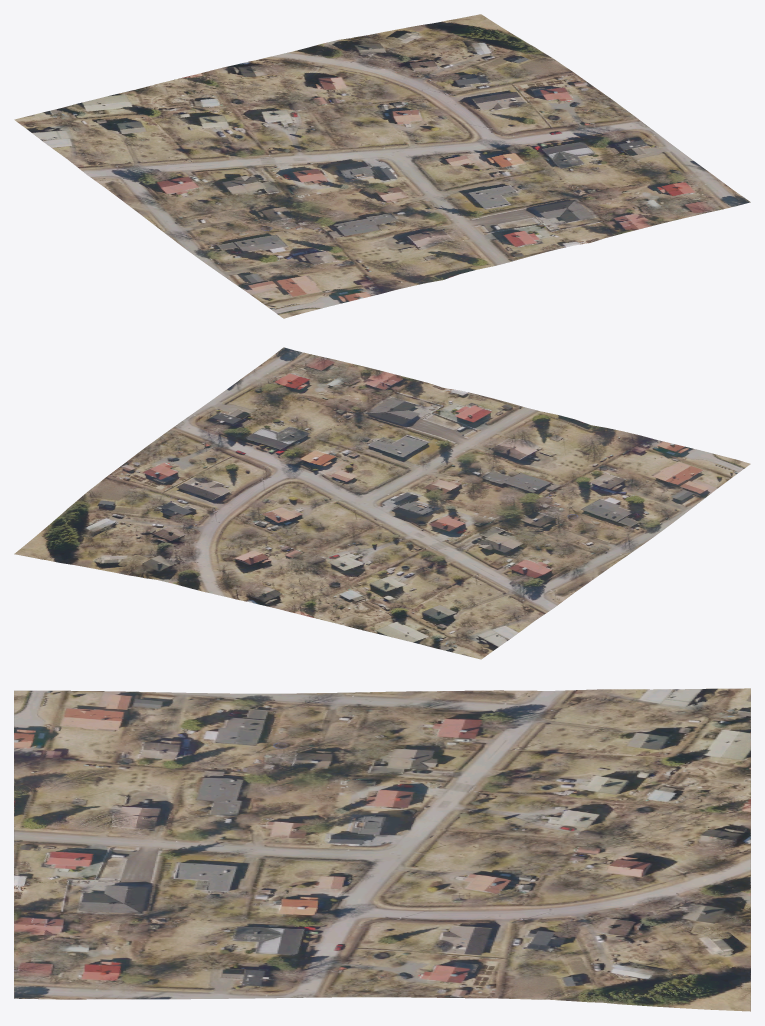
The model's file is CM_Terrain_24492097_6818360.fbx.
3 views of the same model, one above another, from view 1: azimuth 30°, elevation 25°; view 2: azimuth 150°, elevation 25°; view 3: azimuth 270°, elevation 25° (orthographic). The views are drawn at different scales.
Visible parts, largest first — view 1: CM_Terrain_24492097_6818360_LOD0; view 2: CM_Terrain_24492097_6818360_LOD0; view 3: CM_Terrain_24492097_6818360_LOD0.
Part boxes in pixels (x1,y1,x2,y2): CM_Terrain_24492097_6818360_LOD0: (14, 14, 750, 318); CM_Terrain_24492097_6818360_LOD0: (14, 347, 750, 659); CM_Terrain_24492097_6818360_LOD0: (14, 688, 750, 1011).
Size of what is drawn, in the model's own units: 205 by 4.73 by 205.
